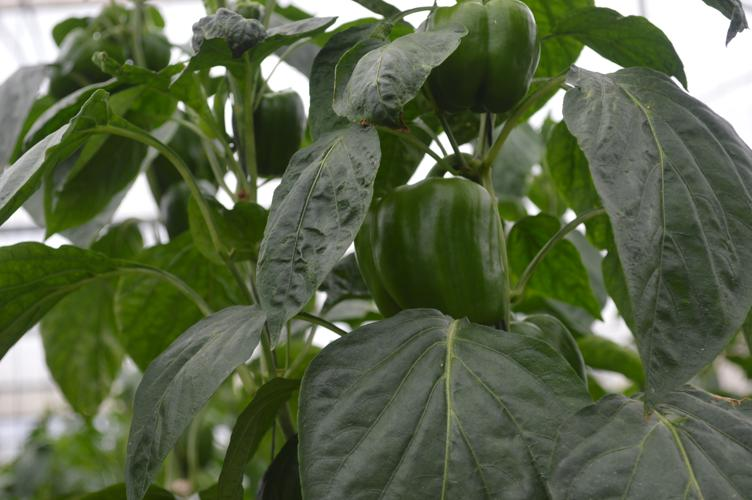BellPepper: (353, 172, 528, 334), (411, 6, 559, 121), (227, 86, 316, 180)
